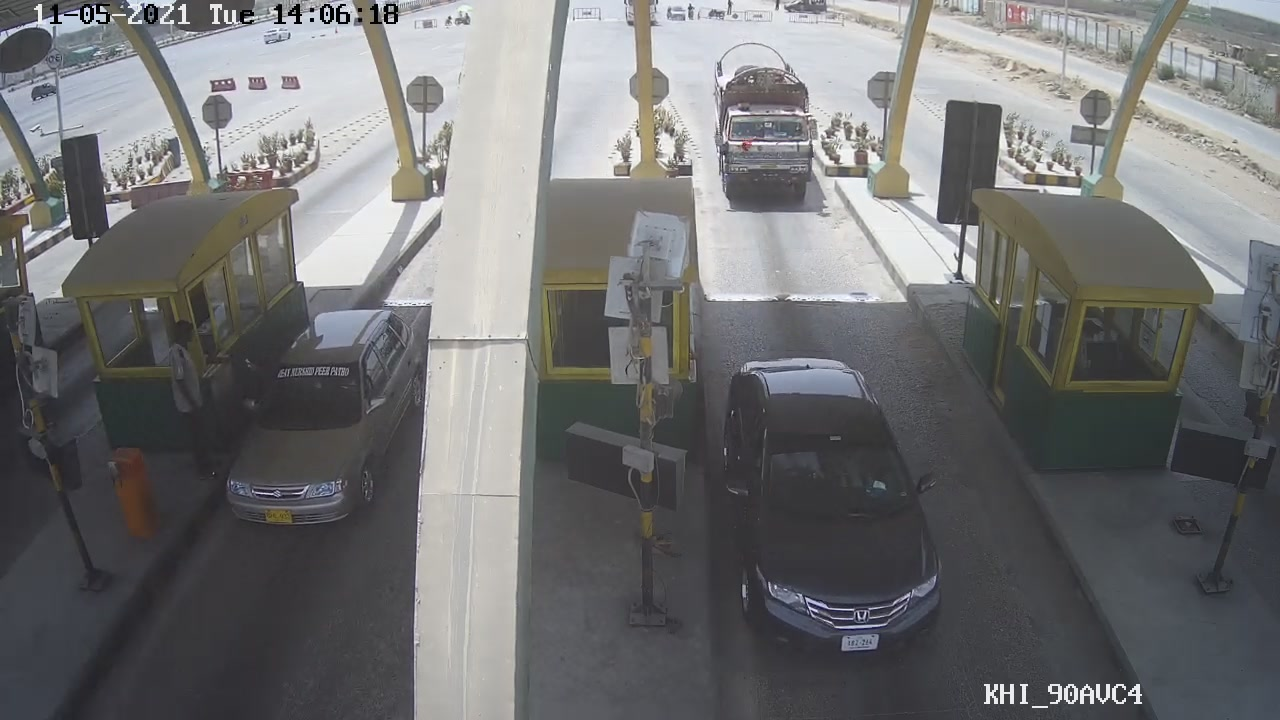F1: (717, 350, 950, 663)
